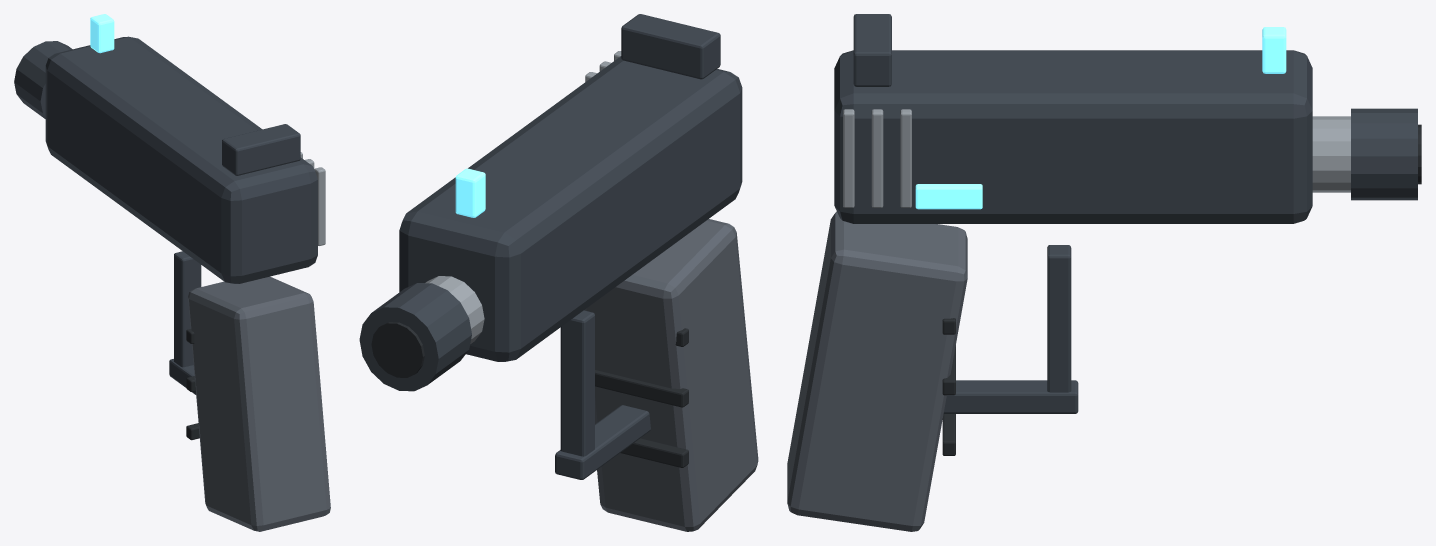
Rendered from pistola.glb.
3 renders of one model, left to right at view 1: azimuth 30°, elevation 25°; view 2: azimuth 150°, elevation 25°; view 3: azimuth 270°, elevation 25°, orthographic. The views are drawn at different scales.
Parts seen in each view (by area): view 1: Arma_pistola; view 2: Arma_pistola; view 3: Arma_pistola.
Boxes of the visible parts, x1,y1,x2,y2 form: Arma_pistola: (14,14,330,531); Arma_pistola: (359,14,758,531); Arma_pistola: (787,14,1421,531).
Size of the model in its own units: 0.1615 by 0.5552 by 0.6634.
